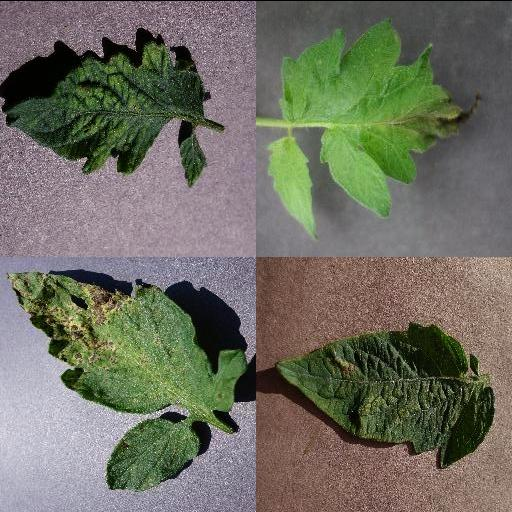Healthy: (265, 135, 315, 241)
Late Blight: (278, 16, 486, 216)
Mosaic Virus: (5, 37, 209, 185)
Septoria: (4, 271, 248, 415)
Spider Mites: (273, 320, 495, 468)
